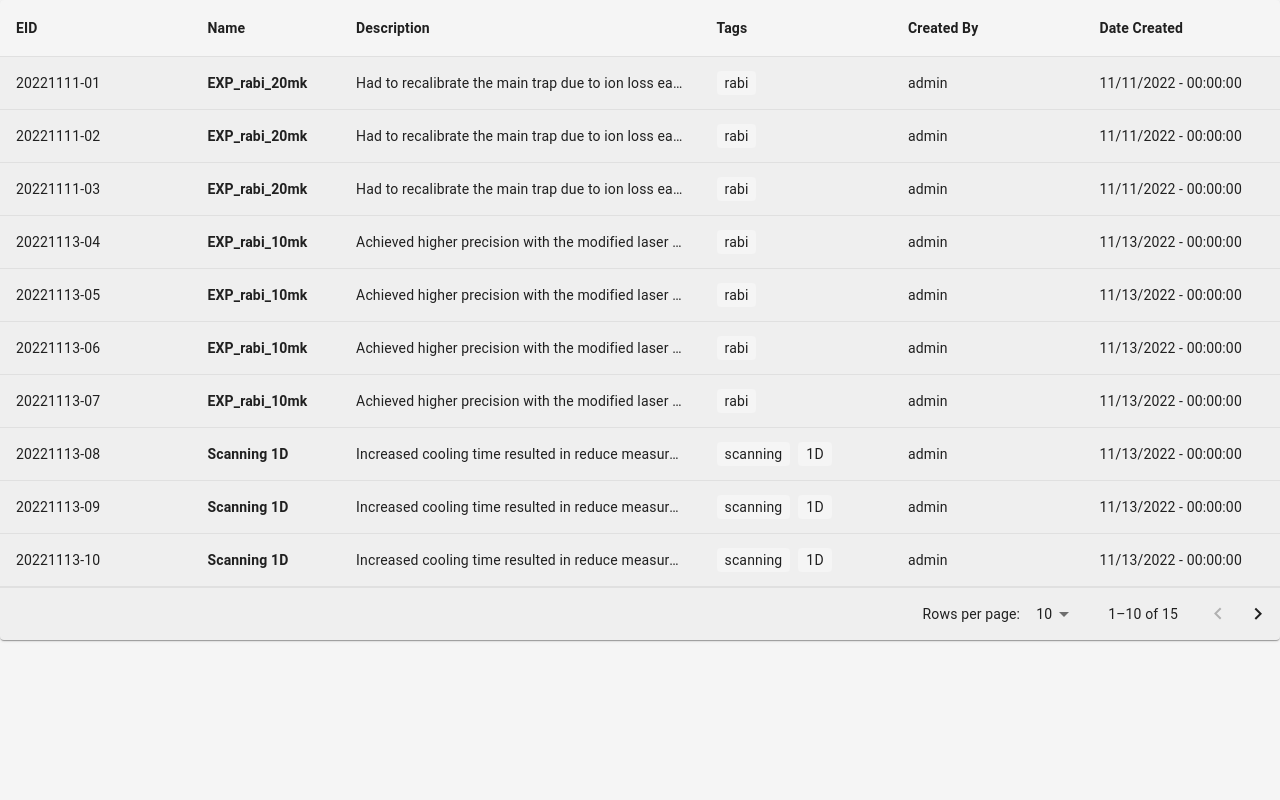
it: Check if the table's pagination list length is dynamically changing
The width and height of the screenshot is (1280, 800).
# User will change the list length
Click the dropdown "10".
click(1044, 614)  # box [1036,606,1052,622]
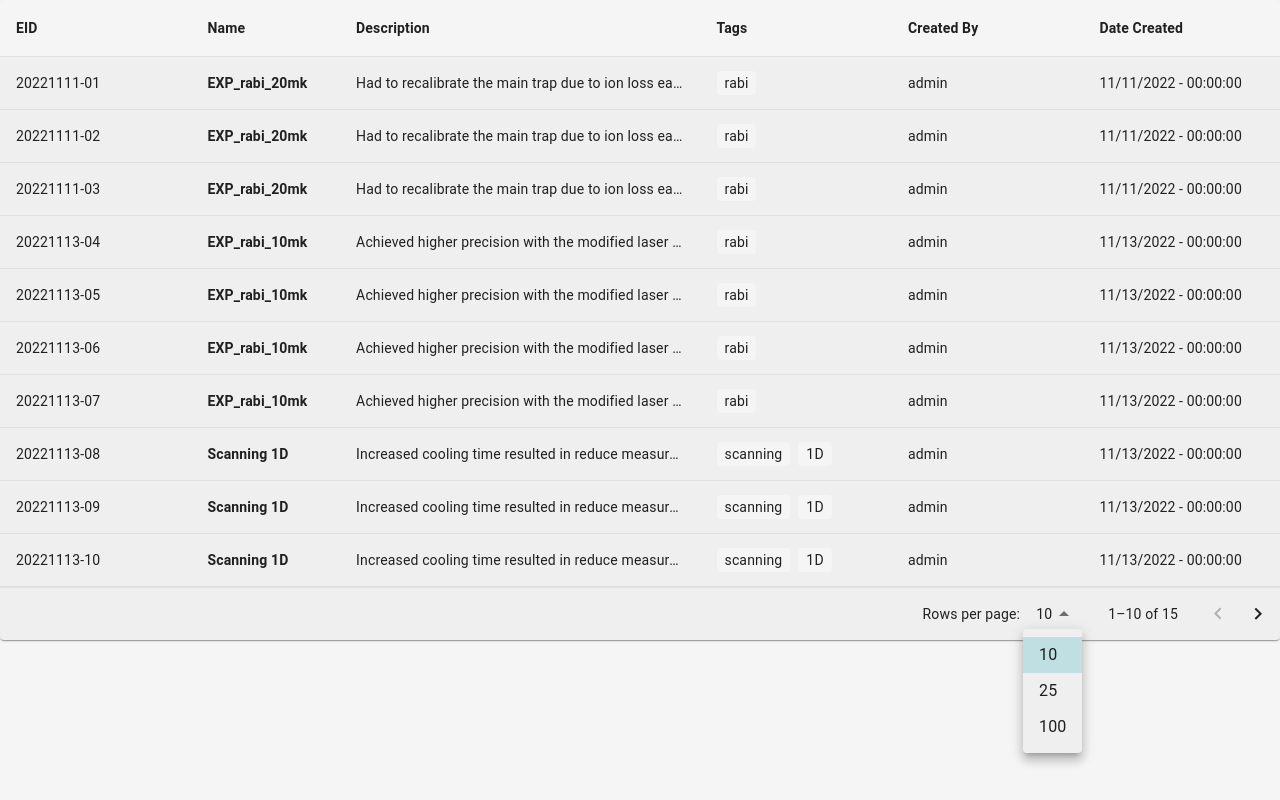
# choose the second option
Click the option "25".
click(1048, 690)  # box [1039,681,1057,700]
(page scrolled)
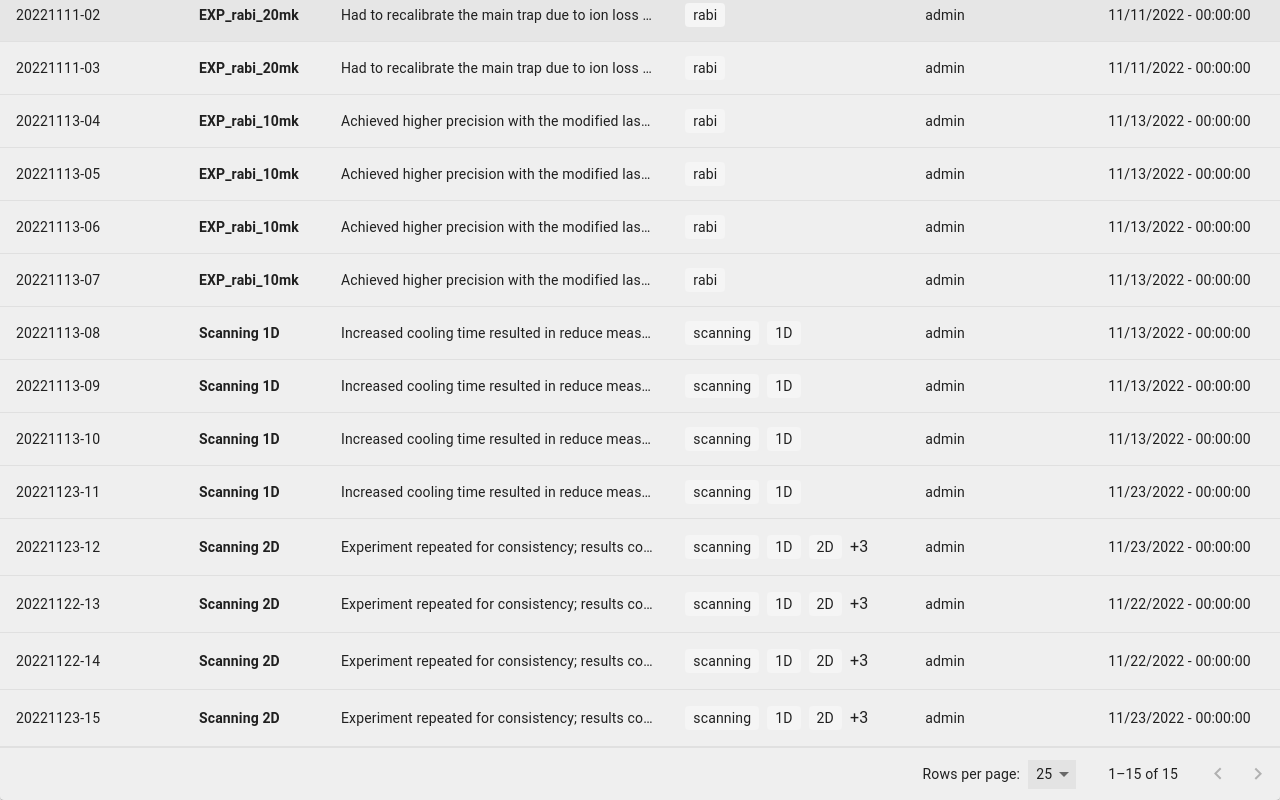
Expected: the number of checkboxes is 15
